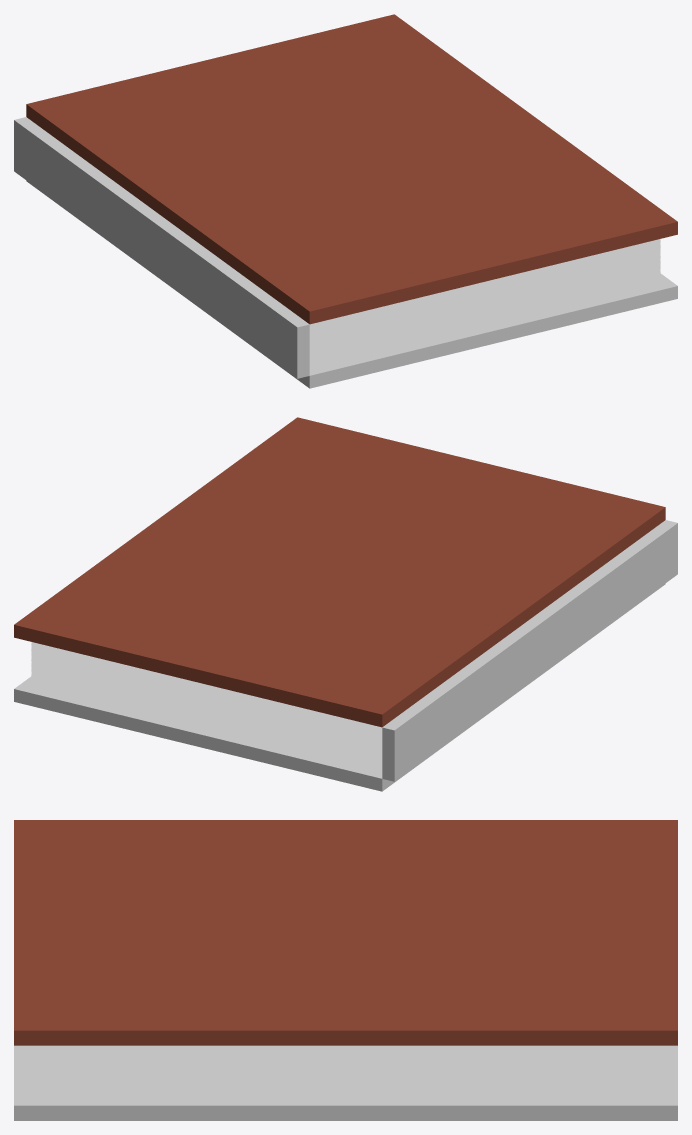
File: Book1.gltf
The picture shows the model from 3 angles, top to bottom: view 1: azimuth 30°, elevation 25°; view 2: azimuth 150°, elevation 25°; view 3: azimuth 270°, elevation 25°; orthographic projection. The views are drawn at different scales.
Parts seen in each view (by area): view 1: CoverL, Spine, CoverR, Plane.004, Plane.021, Plane.037, Plane.020, Plane.033, Plane.038, Plane, Plane.005, Plane.016 (+36 smaller); view 2: CoverL, Spine, CoverR, Plane.004, Plane.021, Plane.037, Plane.020, Plane.033, Plane.038, Plane, Plane.005, Plane.016 (+36 smaller); view 3: CoverL, CoverR, Plane, Plane.001, Plane.002, Plane.003, Plane.004, Plane.005, Plane.006, Plane.007, Plane.010, Plane.011 (+37 smaller).
Part boxes in pixels (left/top/right/bottom): CoverL: left=26, top=14, right=677, bottom=324; Spine: left=14, top=117, right=309, bottom=378; CoverR: left=26, top=180, right=677, bottom=388; Plane.004: left=309, top=277, right=660, bottom=363; Plane.021: left=309, top=261, right=660, bottom=347; Plane.037: left=309, top=246, right=660, bottom=332; Plane.020: left=309, top=262, right=660, bottom=348; Plane.033: left=309, top=250, right=660, bottom=336; Plane.038: left=309, top=245, right=660, bottom=331; Plane: left=309, top=281, right=660, bottom=367; Plane.005: left=309, top=276, right=660, bottom=362; Plane.016: left=309, top=266, right=660, bottom=352; CoverL: left=14, top=417, right=665, bottom=727; Spine: left=382, top=520, right=677, bottom=781; CoverR: left=14, top=583, right=665, bottom=791; Plane.004: left=31, top=680, right=382, bottom=766; Plane.021: left=31, top=664, right=382, bottom=750; Plane.037: left=31, top=649, right=382, bottom=735; Plane.020: left=31, top=665, right=382, bottom=751; Plane.033: left=31, top=653, right=382, bottom=739; Plane.038: left=31, top=648, right=382, bottom=734; Plane: left=31, top=684, right=382, bottom=770; Plane.005: left=31, top=679, right=382, bottom=765; Plane.016: left=31, top=669, right=382, bottom=755; CoverL: left=14, top=820, right=677, bottom=1045; CoverR: left=14, top=1045, right=677, bottom=1120; Plane: left=28, top=1095, right=663, bottom=1096; Plane.001: left=28, top=1094, right=663, bottom=1095; Plane.002: left=28, top=1093, right=663, bottom=1094; Plane.003: left=28, top=1092, right=663, bottom=1093; Plane.004: left=28, top=1091, right=663, bottom=1092; Plane.005: left=28, top=1090, right=663, bottom=1091; Plane.006: left=28, top=1089, right=663, bottom=1090; Plane.007: left=28, top=1088, right=663, bottom=1089; Plane.010: left=28, top=1084, right=663, bottom=1085; Plane.011: left=28, top=1083, right=663, bottom=1084.
Bounding box in the file's own units: 1.55 × 0.3 × 2.
1 material, 1 textured.
